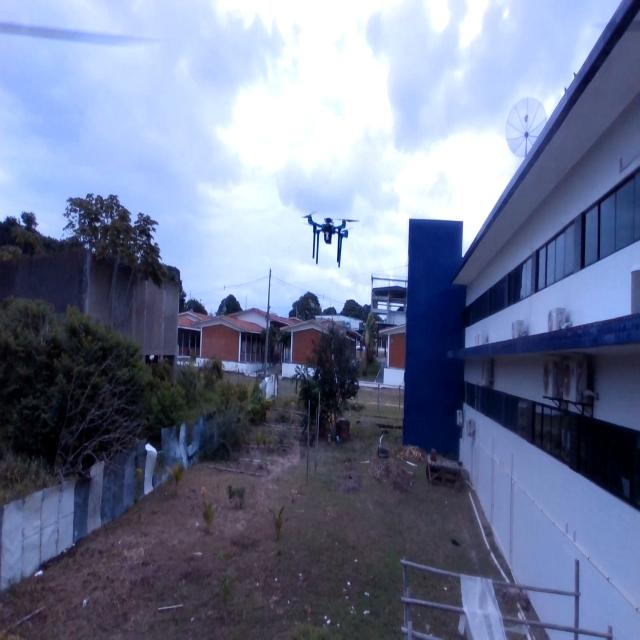-uav-: (294, 197, 361, 280)
